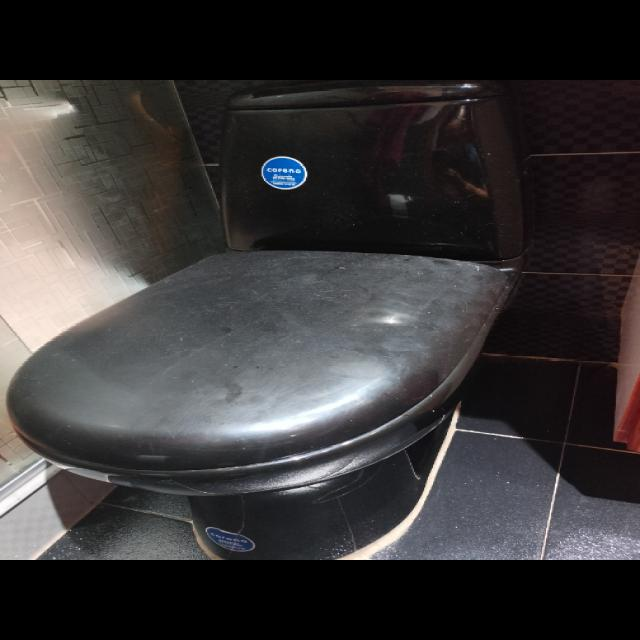toilet: (5, 80, 531, 560)
